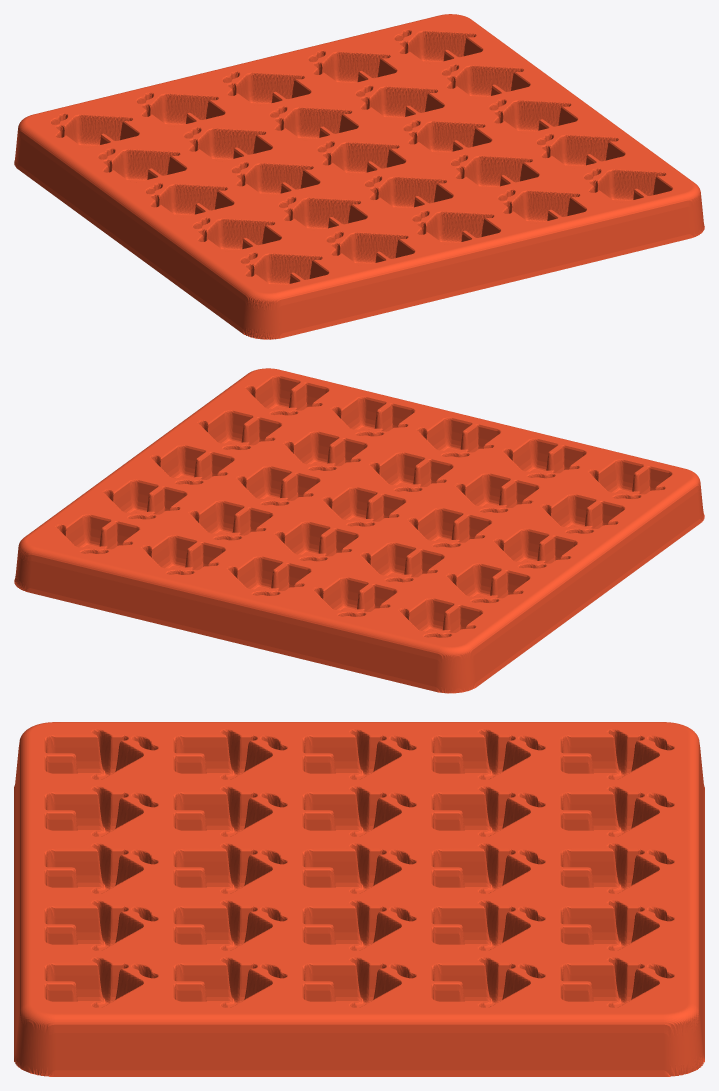
The model's file is mold.glb.
3 views of the same model, one above another, from view 1: azimuth 30°, elevation 25°; view 2: azimuth 150°, elevation 25°; view 3: azimuth 270°, elevation 25° (orthographic). The views are drawn at different scales.
Visible parts, largest first — view 1: geometry_0; view 2: geometry_0; view 3: geometry_0.
Part boxes in pixels (box(x1,y1,x2,y2)): geometry_0: box(14, 14, 704, 339); geometry_0: box(14, 368, 704, 693); geometry_0: box(14, 722, 704, 1076).
Bounding box in the file's own units: 0.1584 × 0.0136 × 0.1519.
